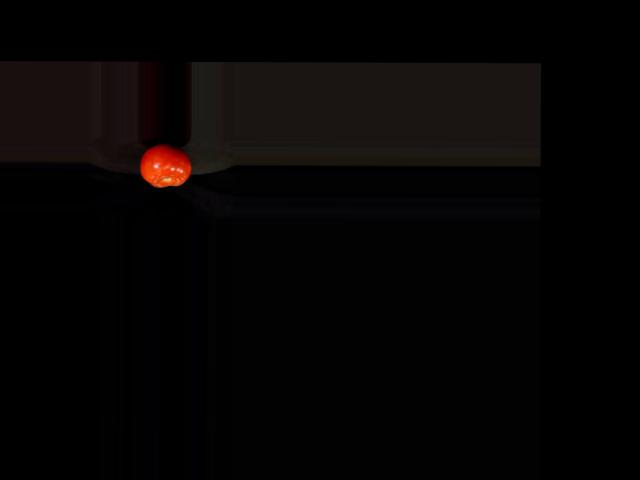tomato: (138, 143, 191, 187)
